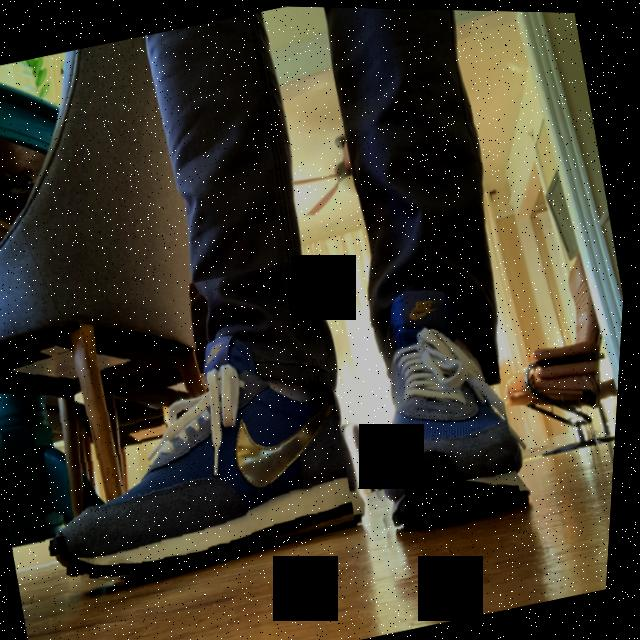shoe: (0, 252, 376, 604), (325, 259, 550, 582)
